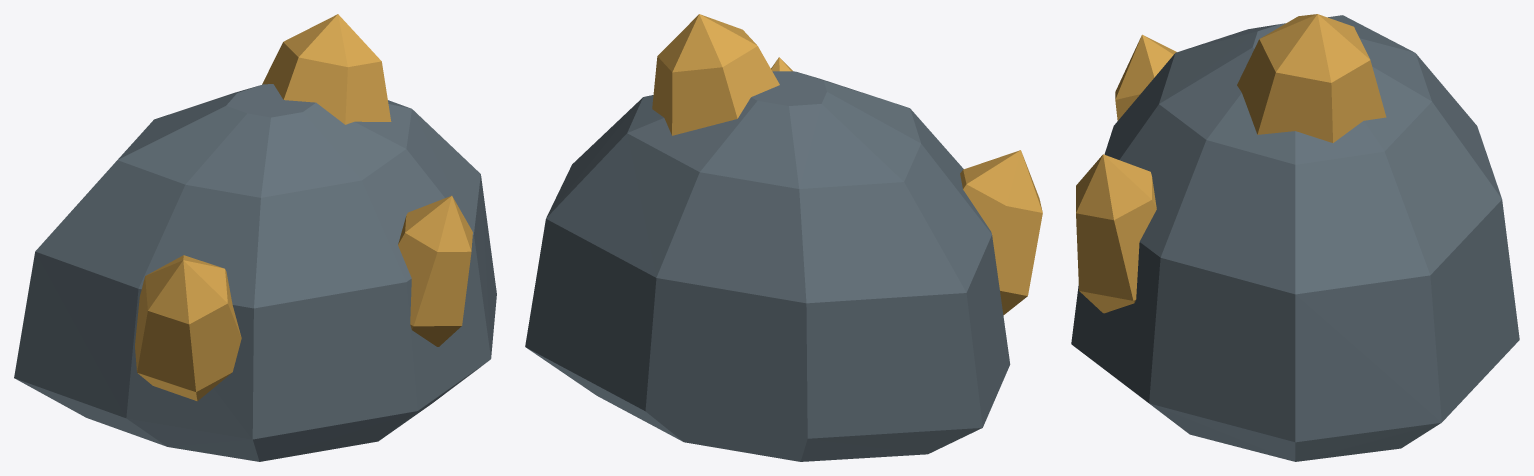
The model's file is 13_Ore_Node.glb.
3 views of the same model, side by side, from view 1: azimuth 30°, elevation 25°; view 2: azimuth 150°, elevation 25°; view 3: azimuth 270°, elevation 25° (orthographic). The views are drawn at different scales.
Visible parts, largest first — view 1: 13_Ore_Node__Body; view 2: 13_Ore_Node__Body; view 3: 13_Ore_Node__Body.
Boxes of the visible parts, x1=… form: 13_Ore_Node__Body: x1=14, y1=14, x2=496, y2=461; 13_Ore_Node__Body: x1=525, y1=14, x2=1042, y2=461; 13_Ore_Node__Body: x1=1071, y1=14, x2=1519, y2=461.
Size of the model in its own units: 2.34 by 1.79 by 1.81.
1 material, 1 textured.
